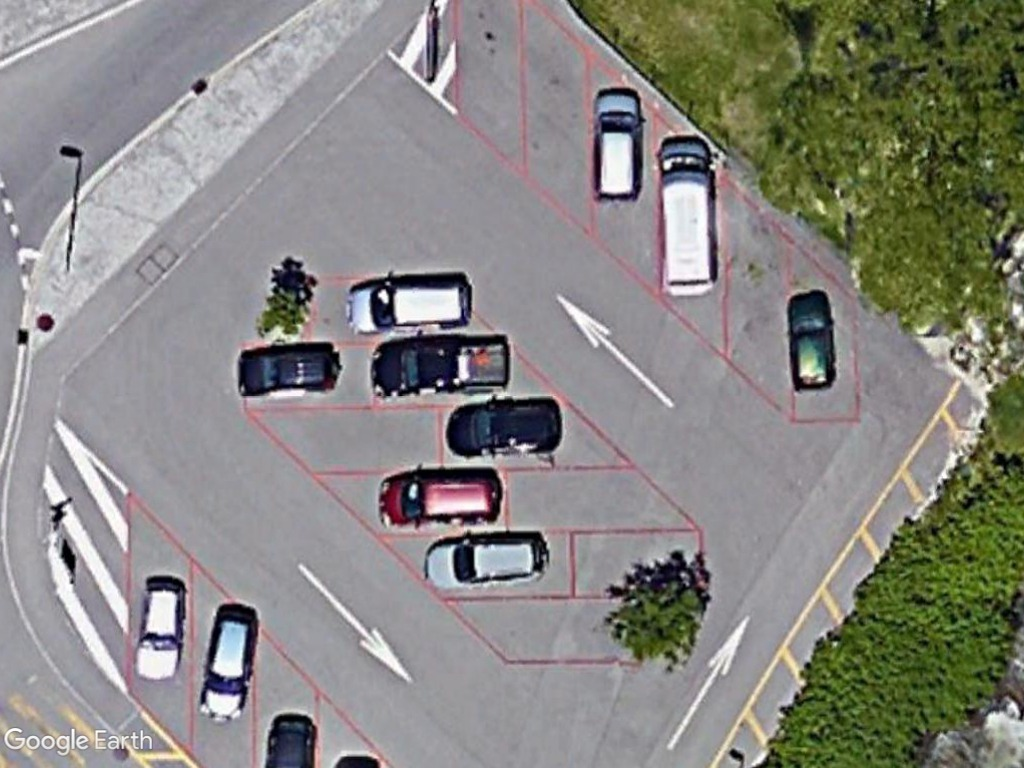car: (344, 271, 478, 337), (377, 466, 506, 533), (420, 531, 549, 594), (444, 396, 564, 462), (198, 610, 258, 724), (592, 83, 649, 200), (784, 284, 839, 391), (132, 574, 186, 681)
van: (654, 131, 724, 297)
